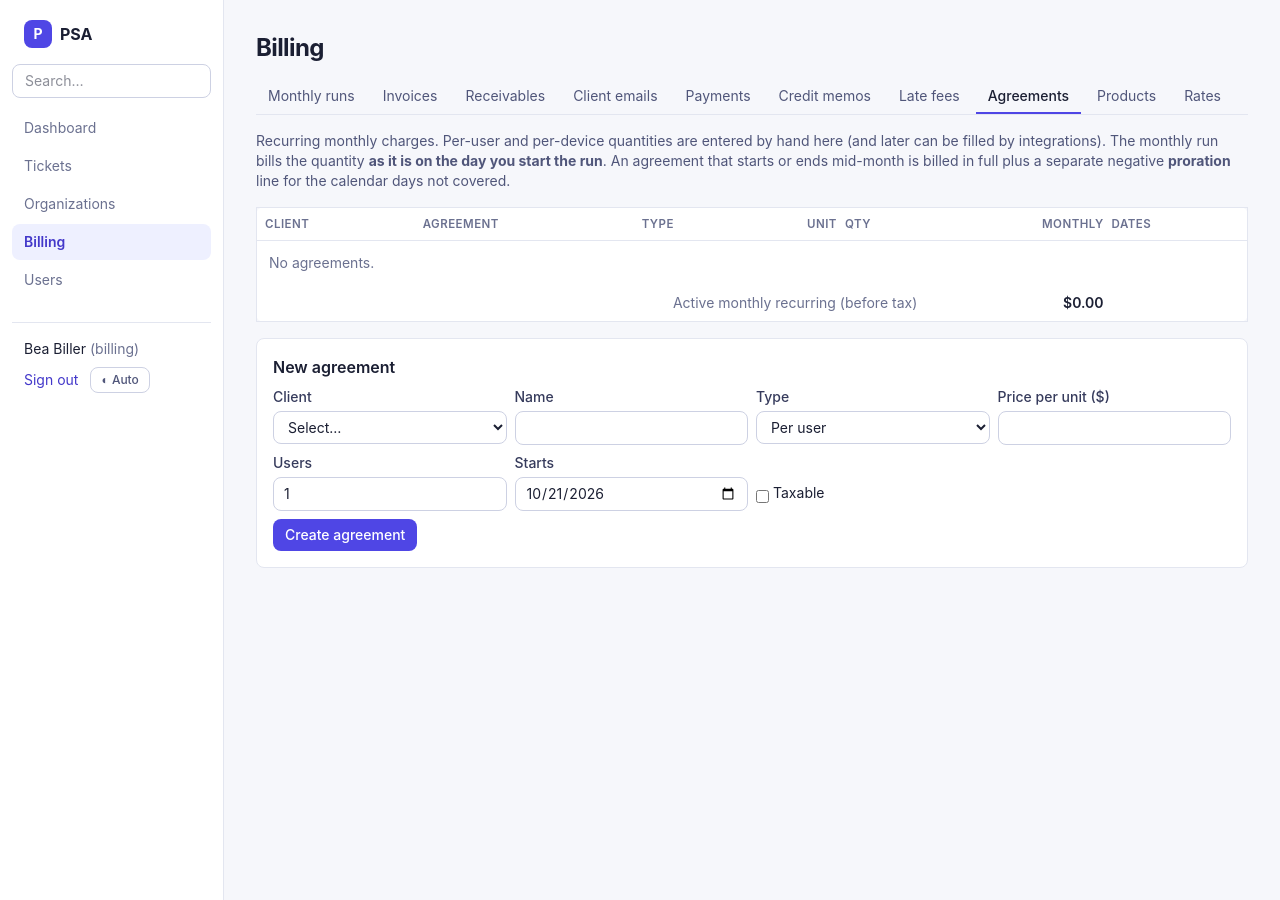
block agreements › shows the 409 detail inline
This screenshot has width=1280, height=900.
Select "Acme" in the dropdown labelled "Client". click: (390, 428)
box: [273,411,506,444]
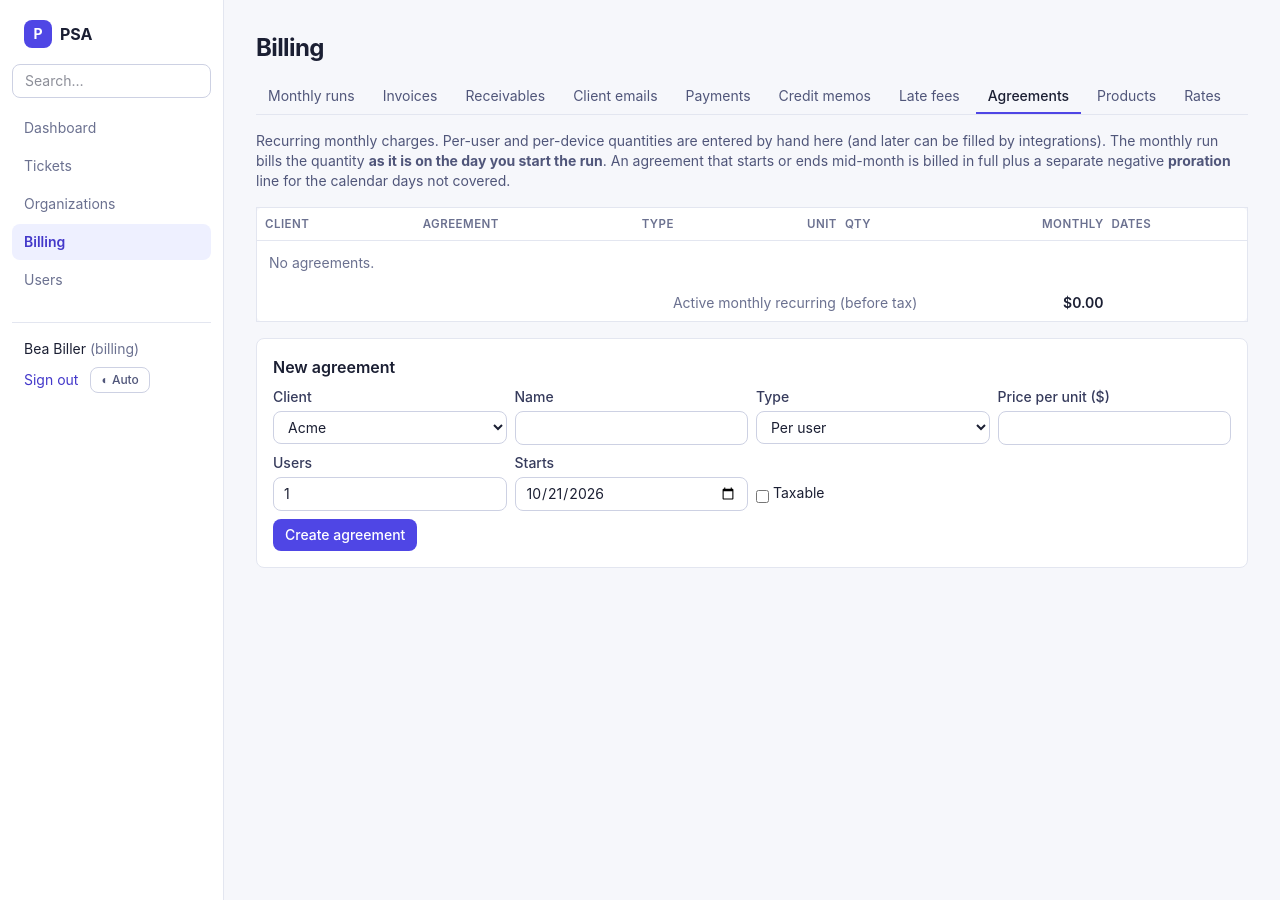
Type "Support block" into the field labelled "Name". click: (631, 428)
box: [514,411,748,445]
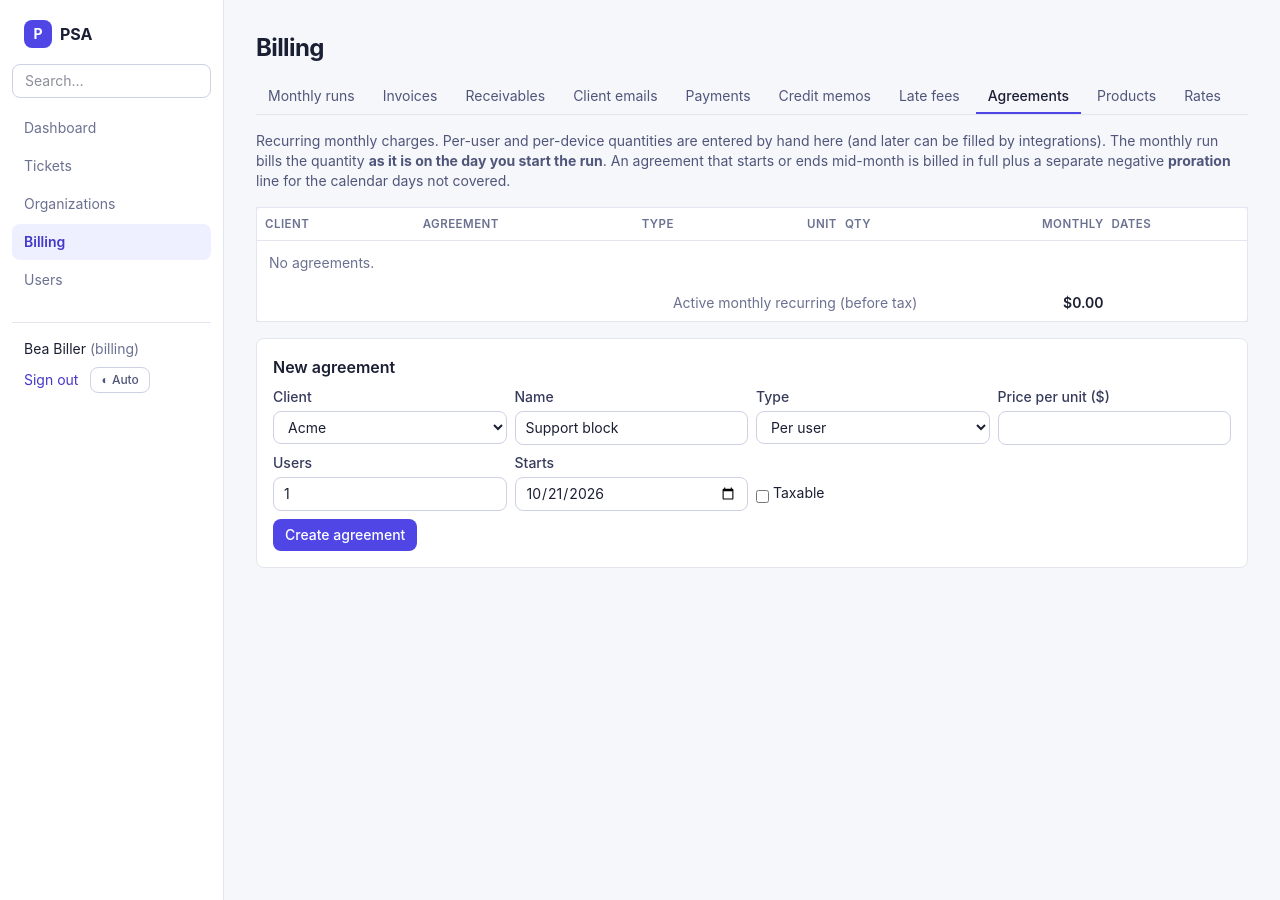
Select "Block hours" in the dropdown labelled "Type". click: (873, 428)
box: [756,411,990,444]
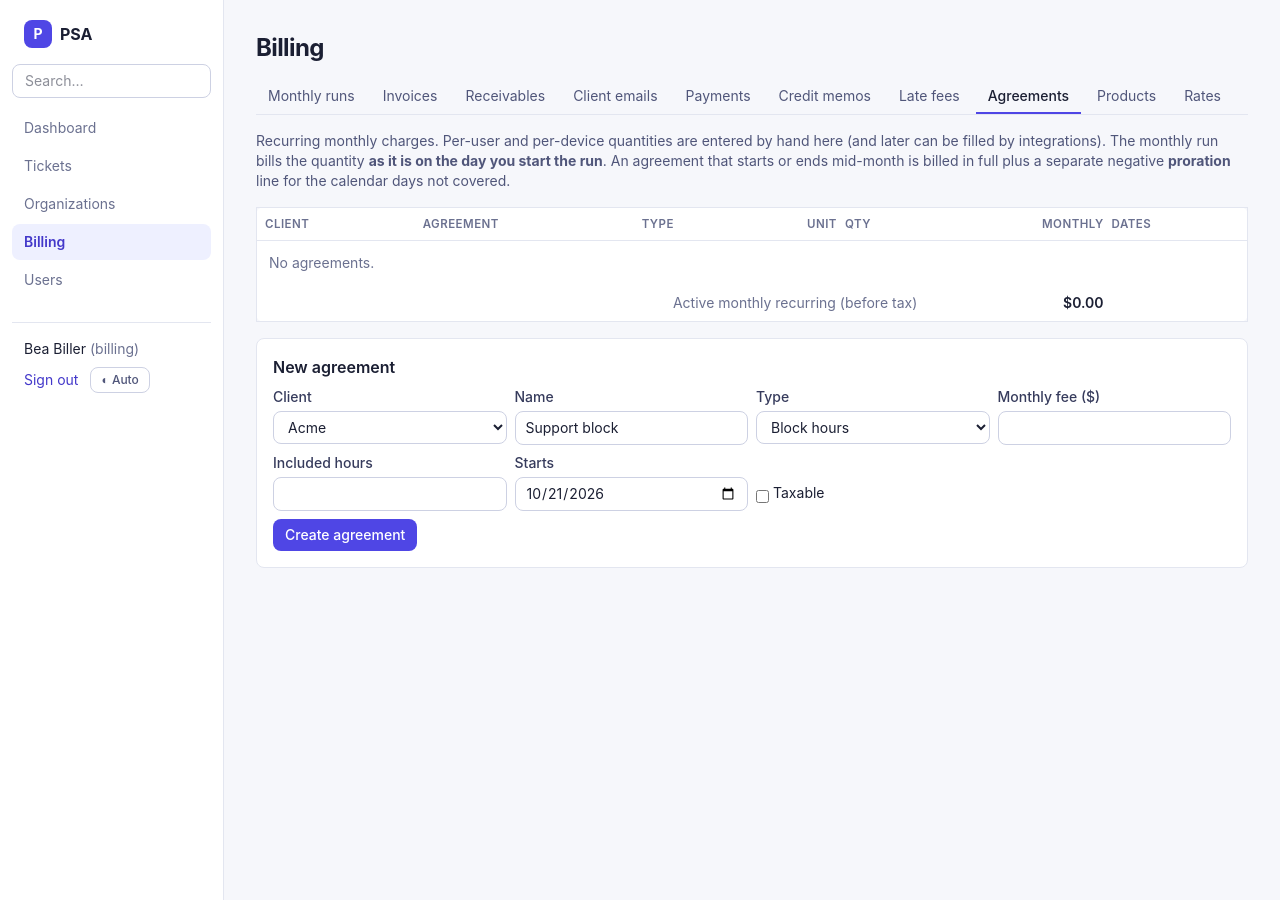
Type "1000" into the field labelled "Monthly fee ($)". click: (1114, 428)
box: [998,411,1231,445]
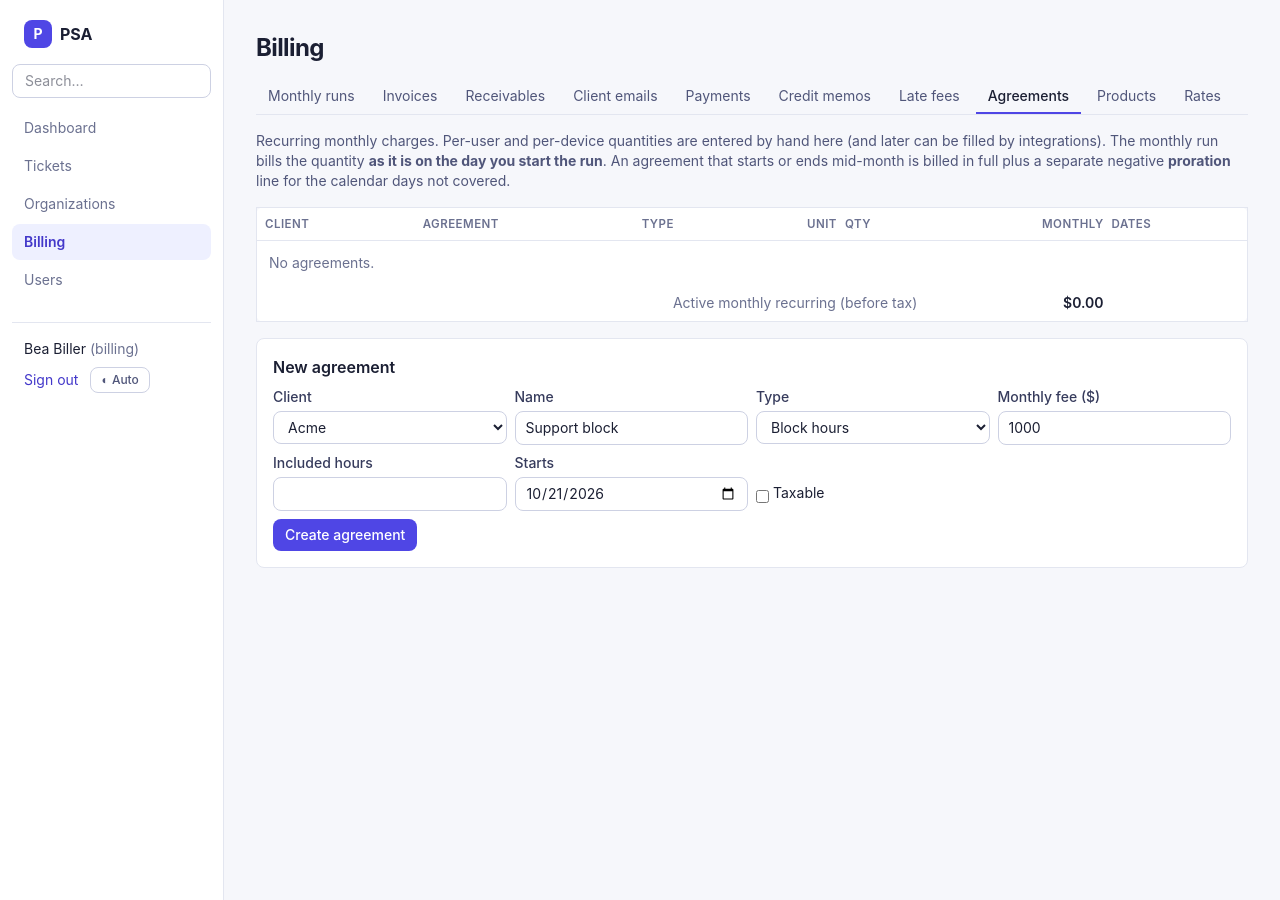
Type "7.5" into the number field labelled "Included hours". click: (390, 494)
box: [273,477,506,511]
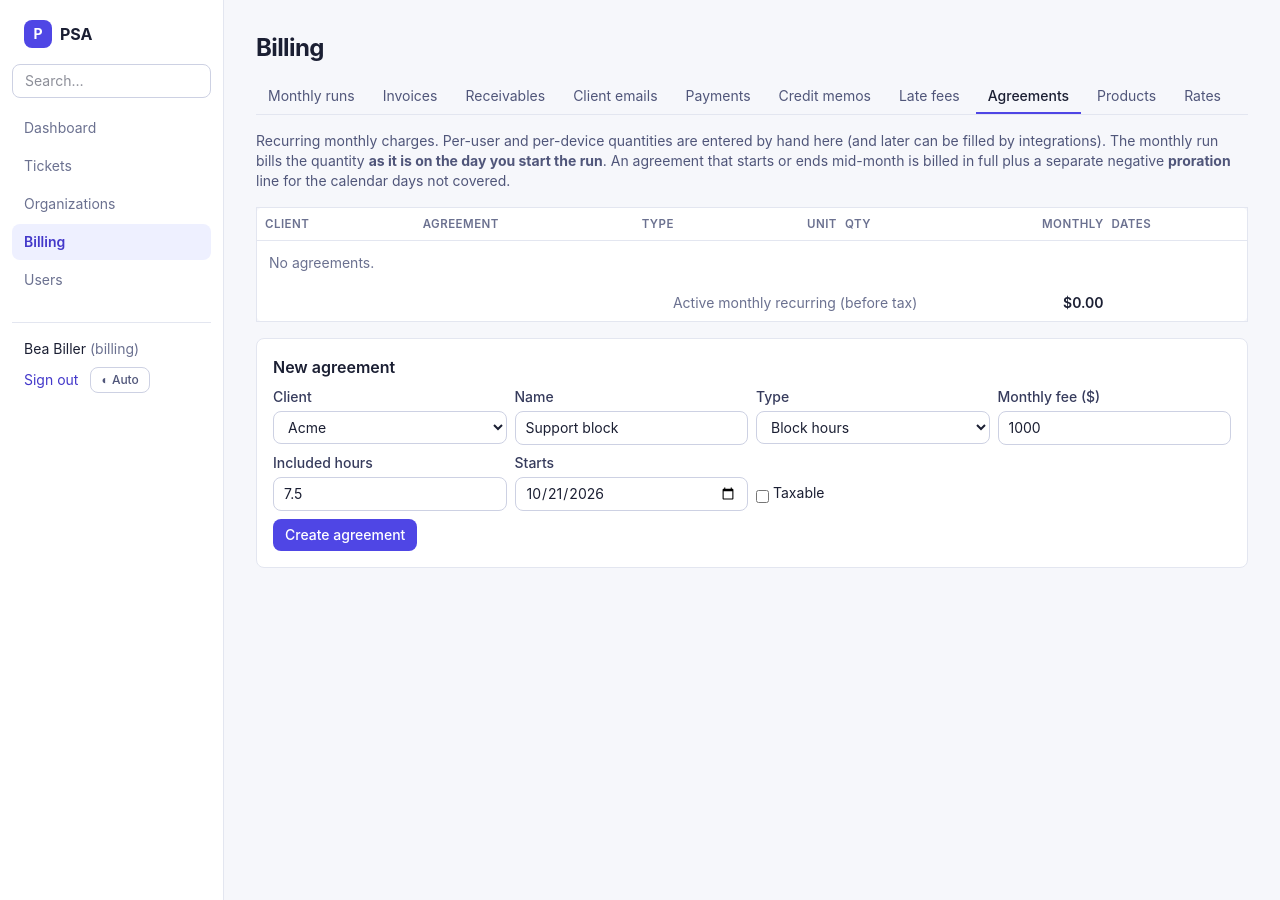
Click the button "Create agreement". click: click(345, 535)
box: [273,519,417,551]
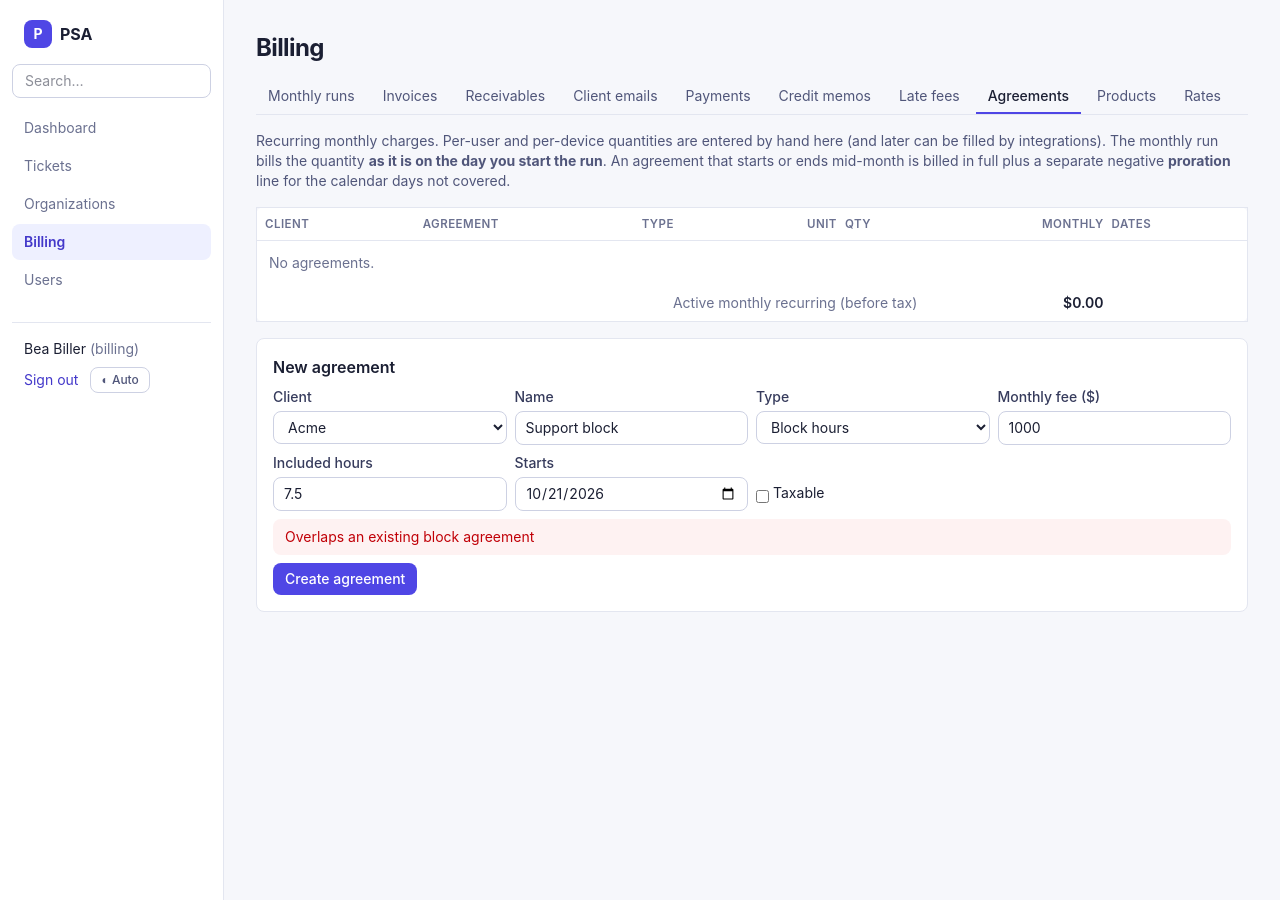
Expected: the text "Overlaps an existing block agreement" is shown, [273,519,1231,555]
